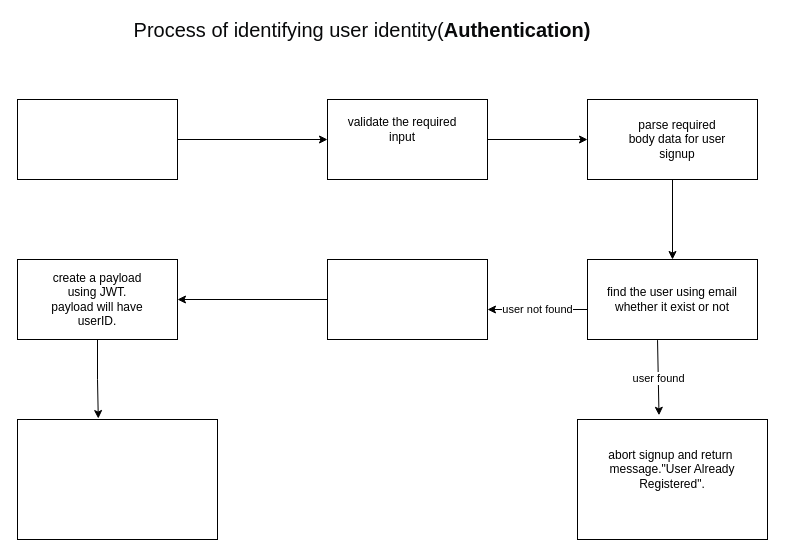
Image size: 785x557. Some labels were removed from this diagram. Here are the shapes that lost their labels. From the top down, the centre of each, then its label:
(x=97, y=139): User Signup
(x=407, y=299): hash the password using bycryptjs and save
(x=117, y=479): sign the payload using JWT and return a token
